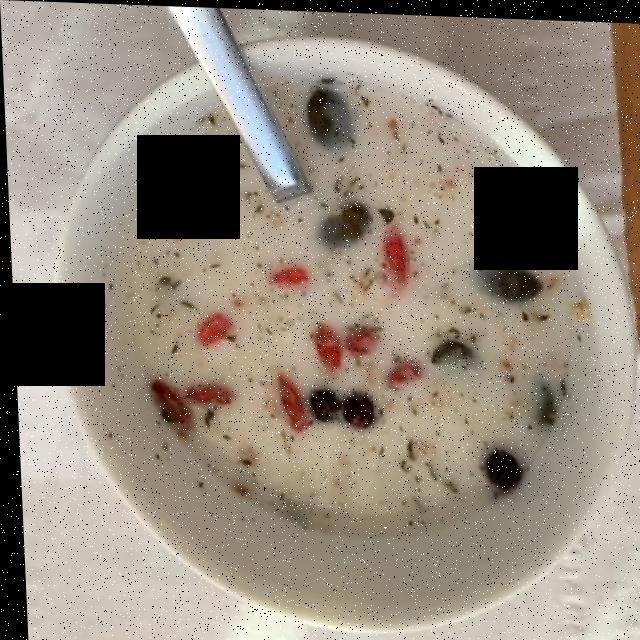mix-of-dried-fruits-and-nuts: (149, 219, 481, 437)
